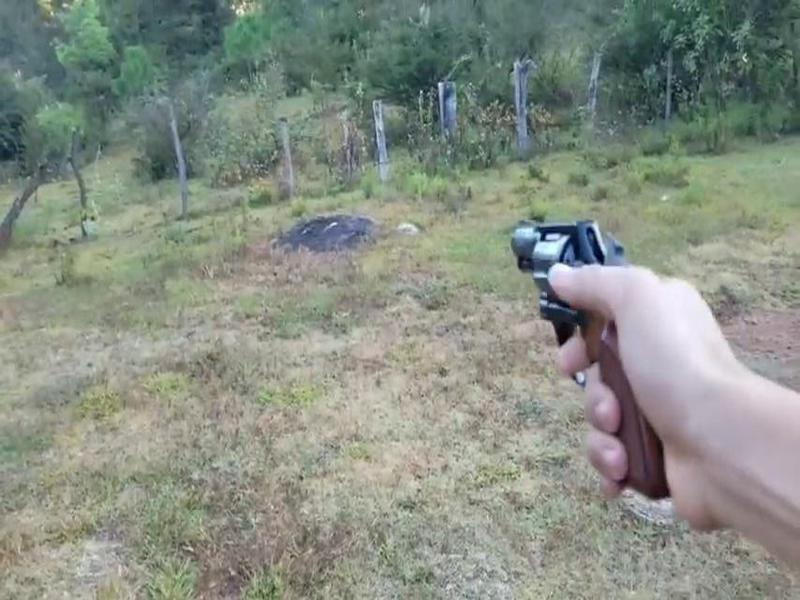Revolver: (513, 198, 696, 514)
